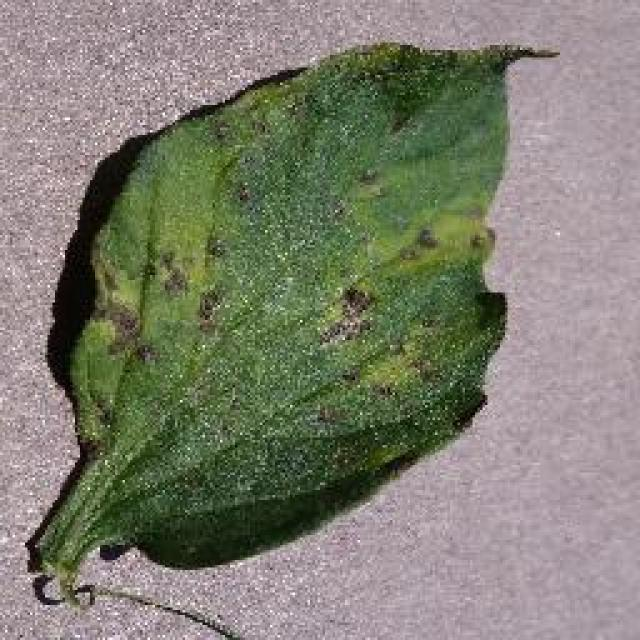Tomato target spot leaf: (61, 39, 551, 569)
